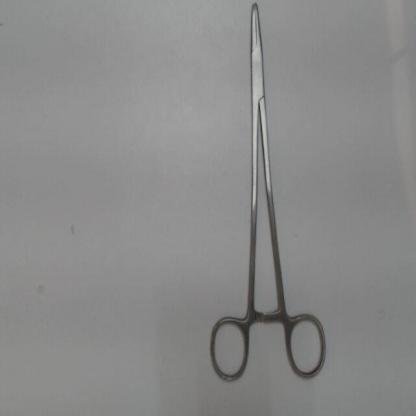8 Mayo Needle Holder: (204, 1, 330, 387)
